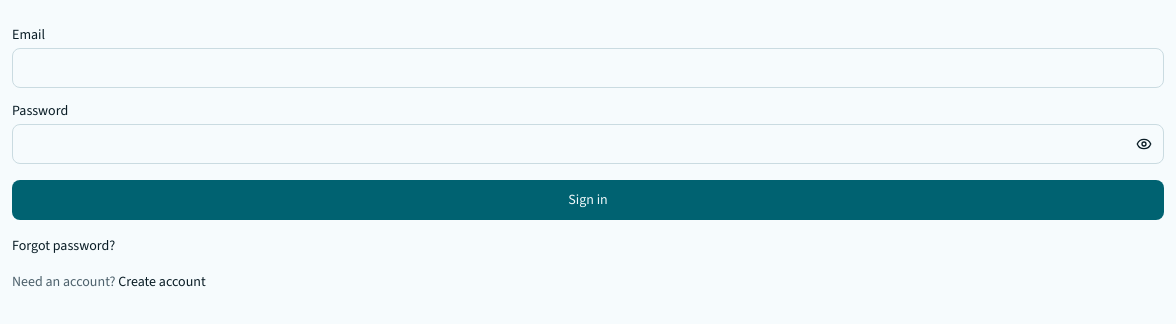
login form › shows the generic credential error
Type "learner@example.com" into the field labelled "Email".
click(588, 68); type("learner@example.com")  # box [12,48,1164,88]
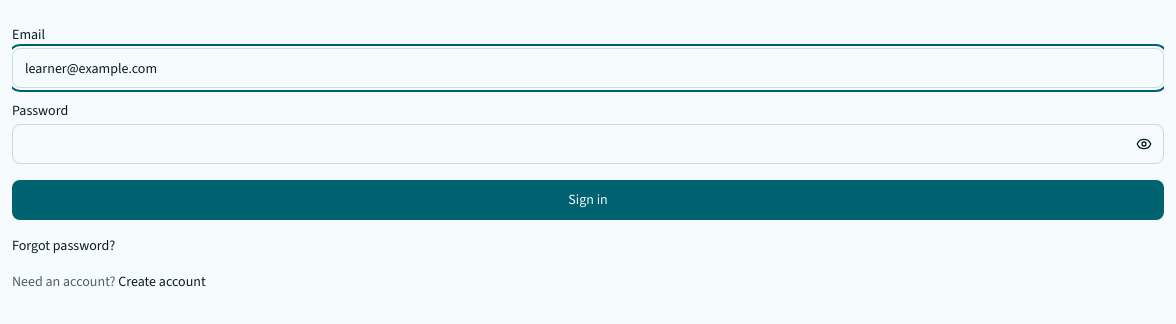
Type "not-the-password" into the password field labelled "Password".
click(588, 144); type("not-the-password")  # box [12,124,1164,164]
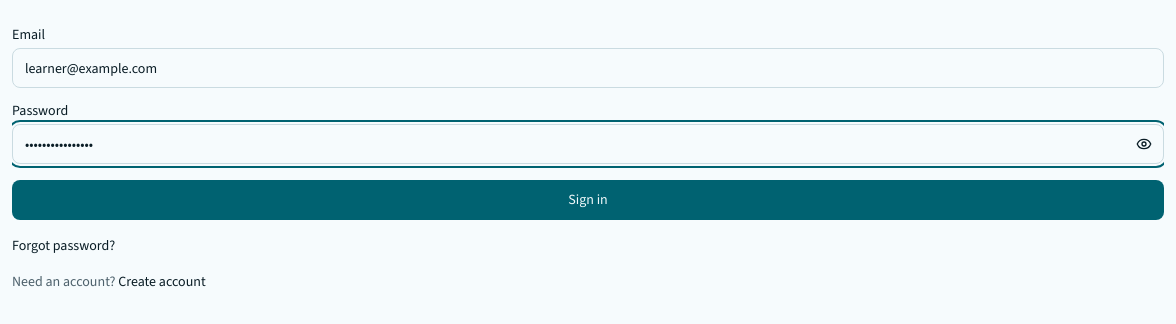
Click the button "Sign in".
click(588, 200)  # box [12,180,1164,220]
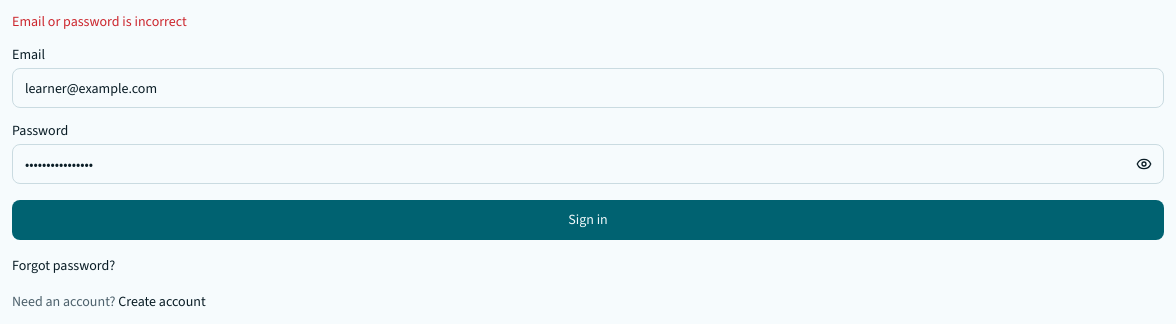
expect the text "Email or password is incorrect" is shown: met, box [12,12,187,31]
